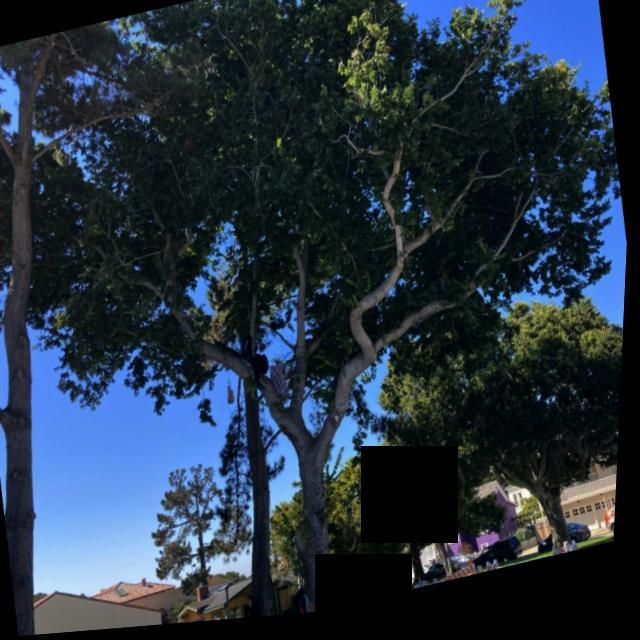Tree: (1, 1, 640, 640), (38, 38, 470, 637), (1, 1, 306, 640), (362, 266, 630, 603), (255, 415, 494, 624), (397, 407, 528, 594), (140, 460, 274, 621)
